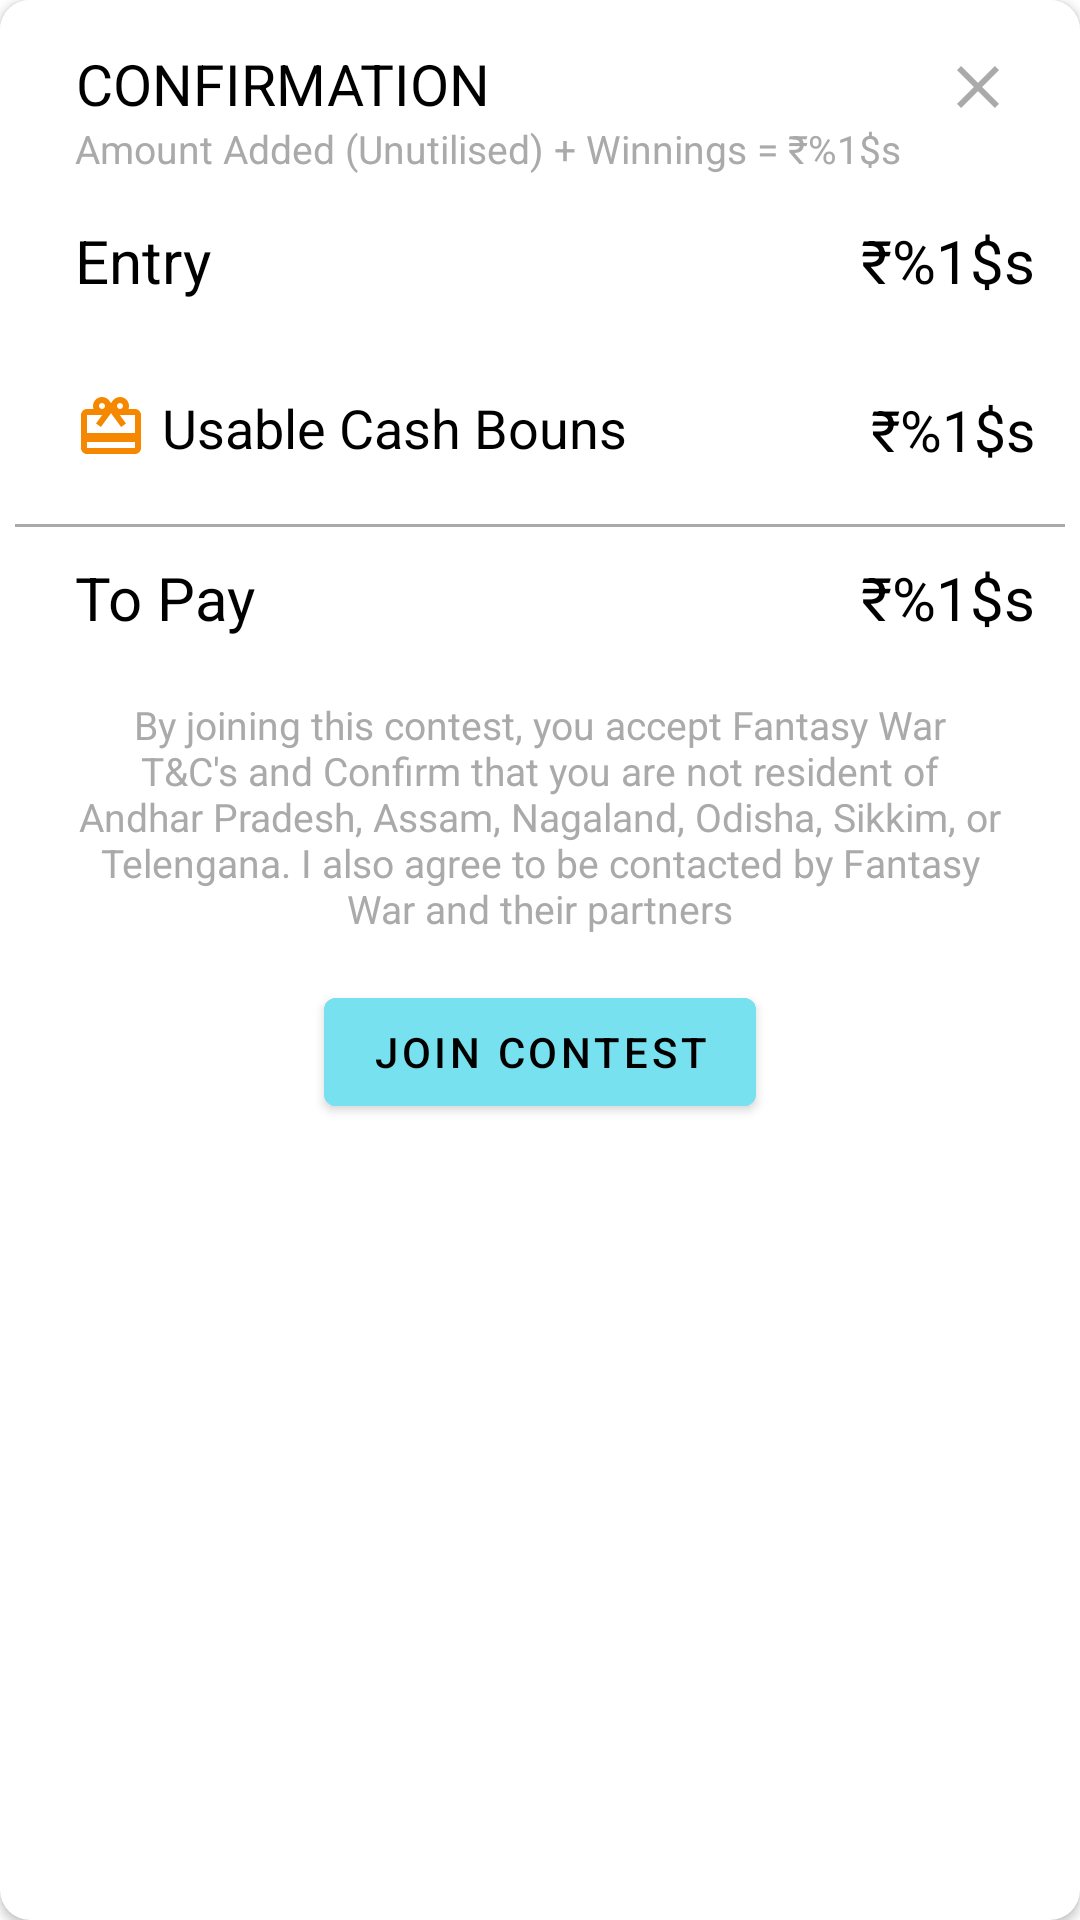

Locate icon controls on the screen. Image size 1080x1920, boxes as (x1, y1, x2, y2).
close: (957, 66, 999, 108)
